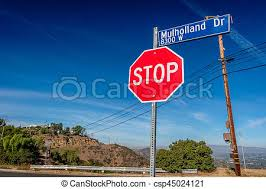Stop: (126, 44, 186, 103)
